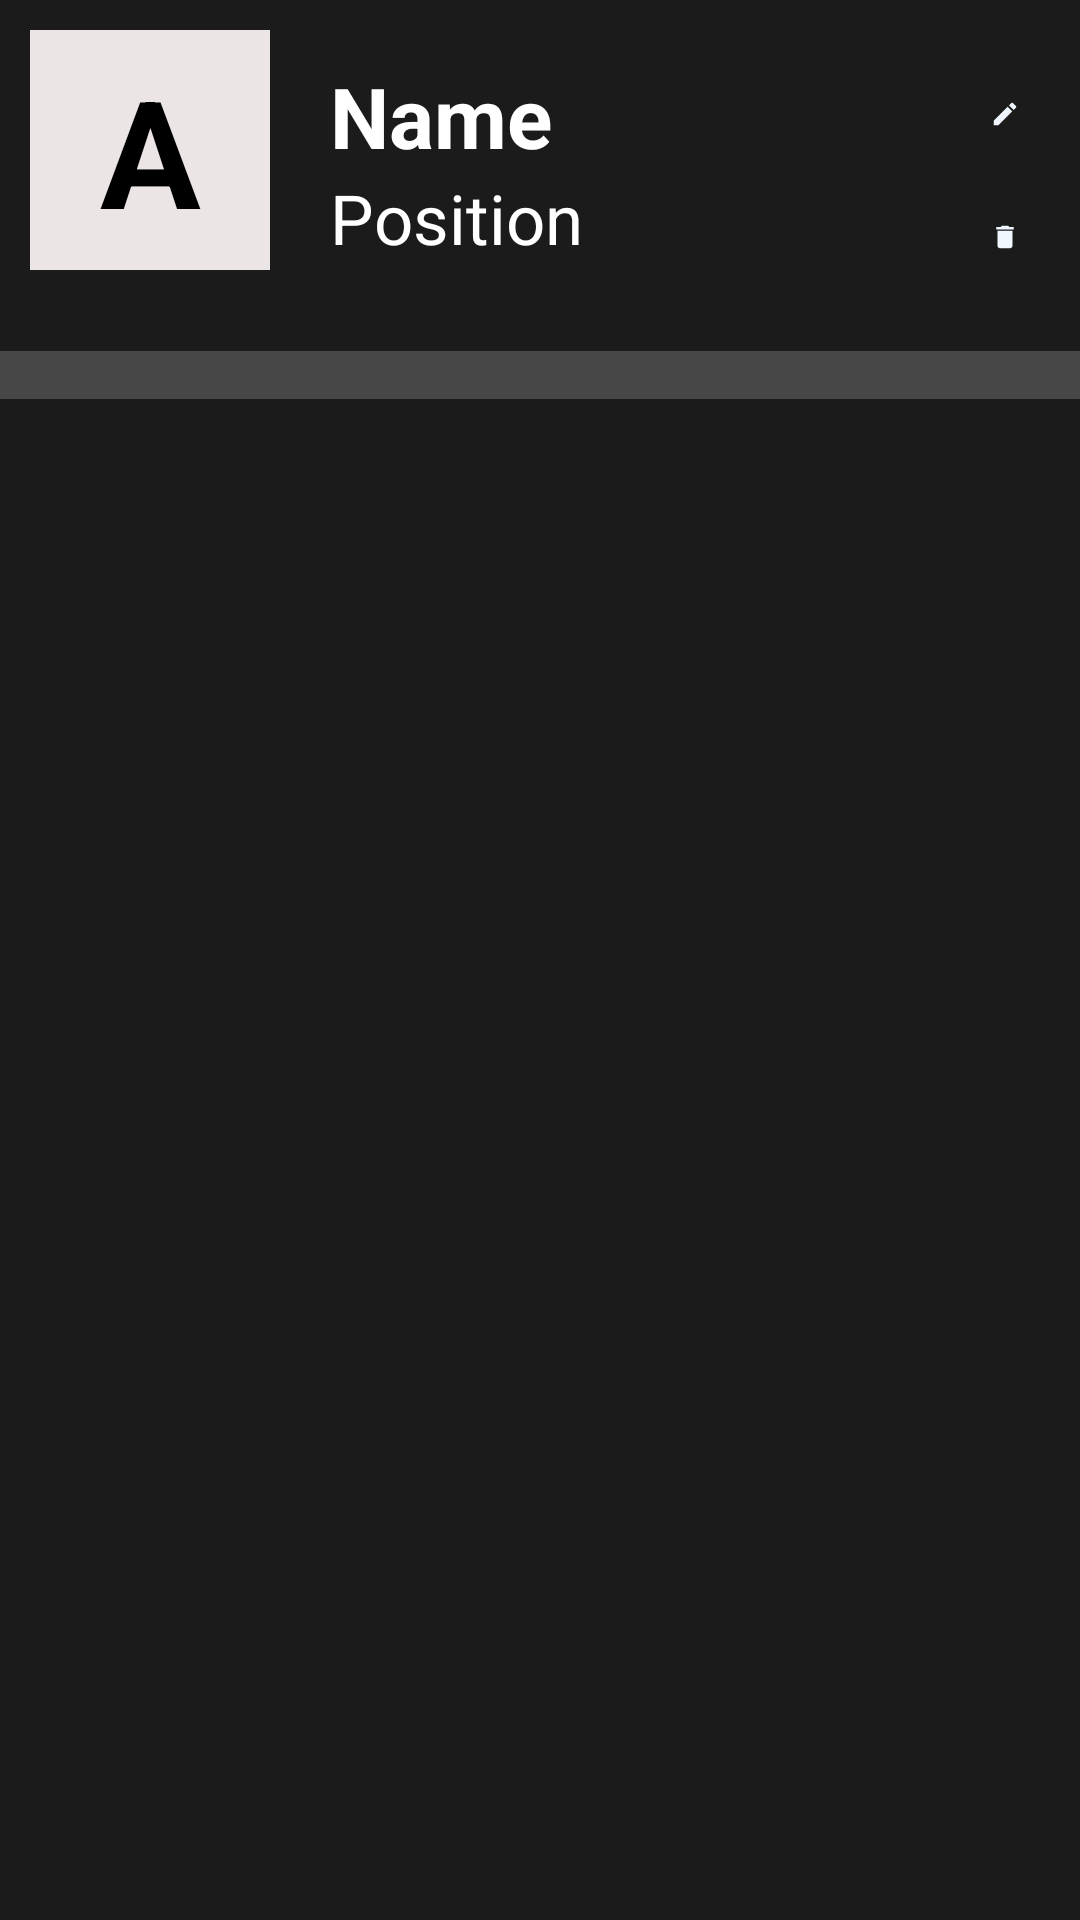

Named icons in this screenshot (1080w x 1920h) and their bounding boxes, (x1, y1, x2, y2):
delete: (996, 225, 1014, 249)
edit: (993, 102, 1017, 126)
